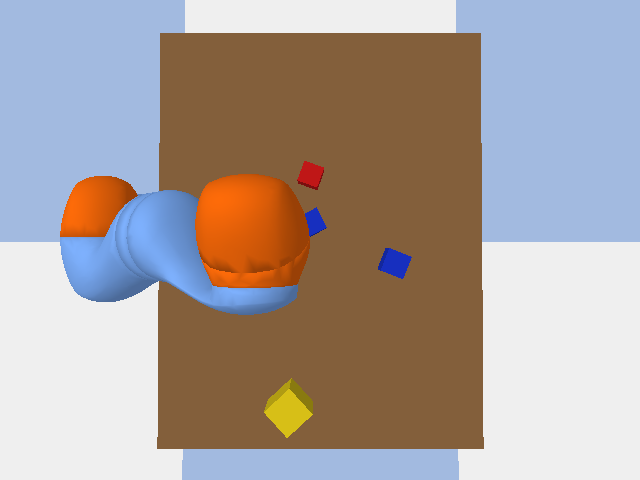blue_obj: (378, 248, 411, 278), (305, 207, 326, 236)
red_obj: (297, 161, 323, 189)
yellow_obj: (264, 378, 312, 437)
